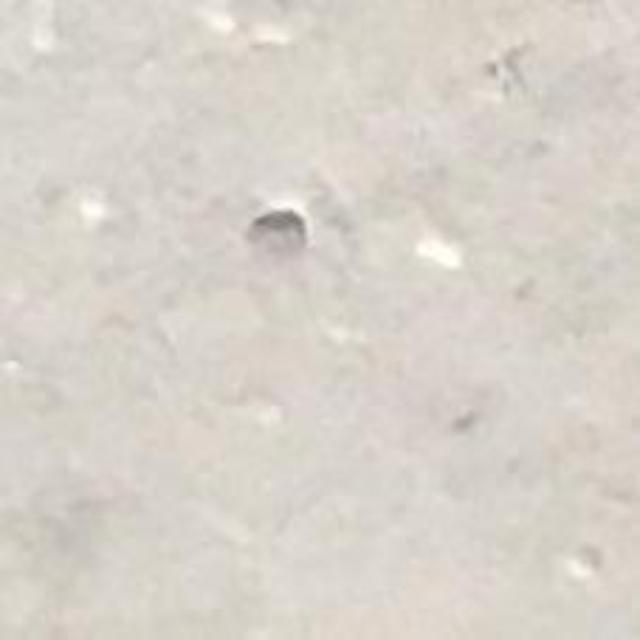peeling plaster: (246, 198, 312, 265)
